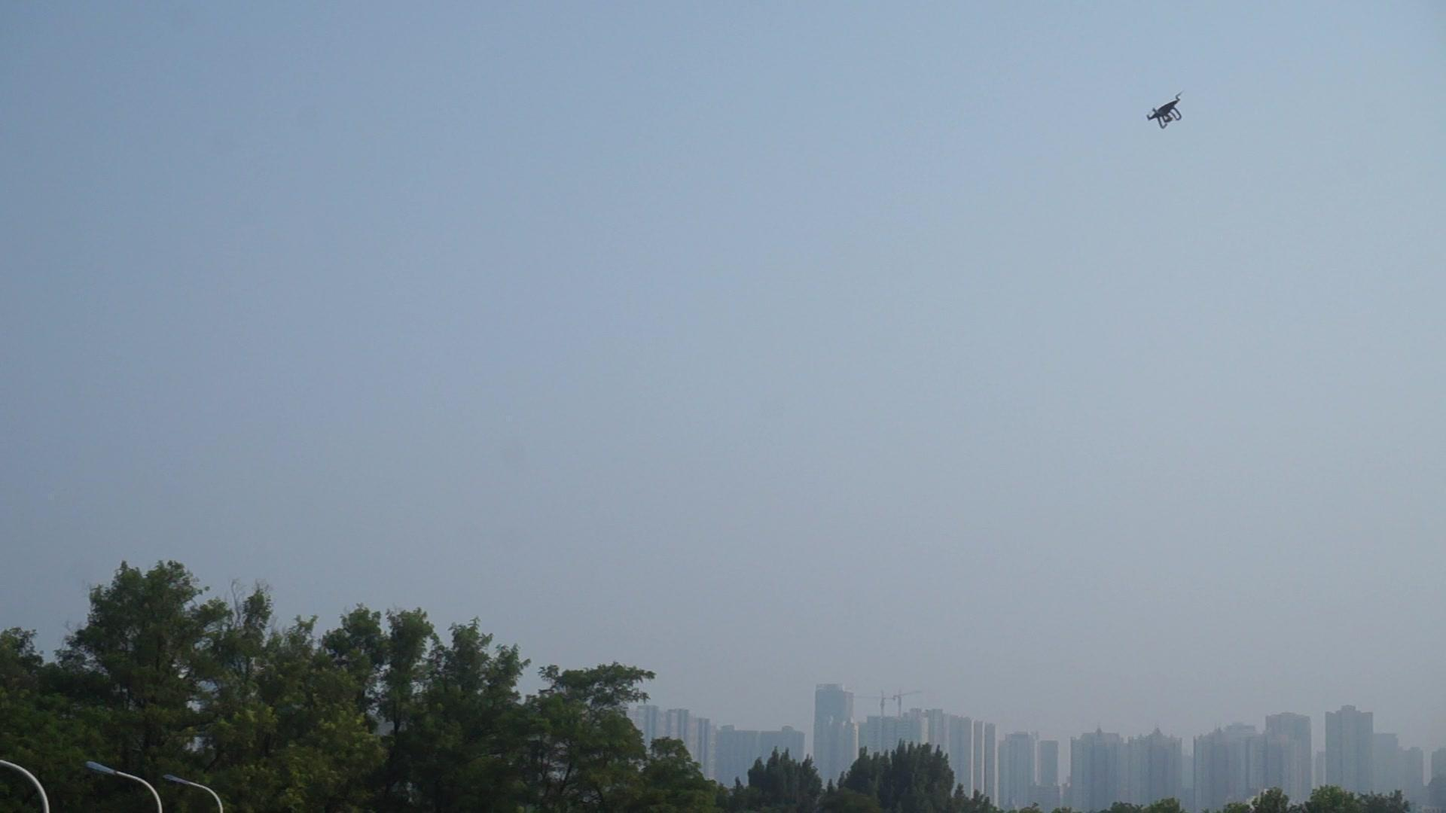UAV: (1147, 92, 1184, 130)
